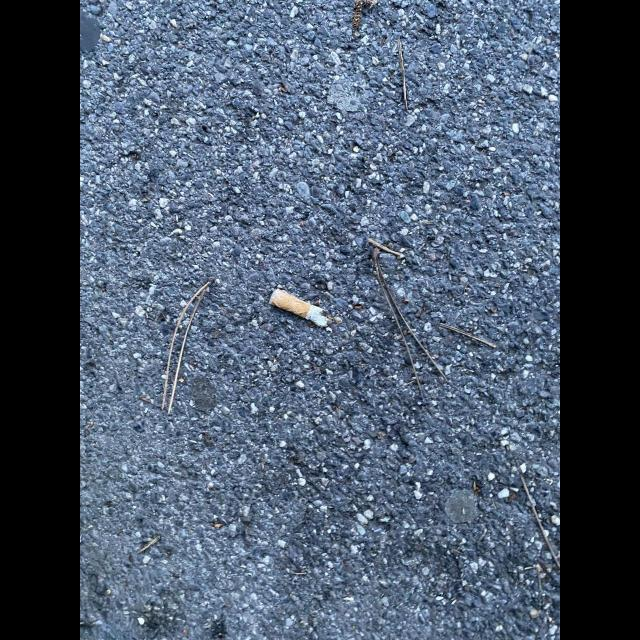cigarette: (269, 288, 332, 333)
